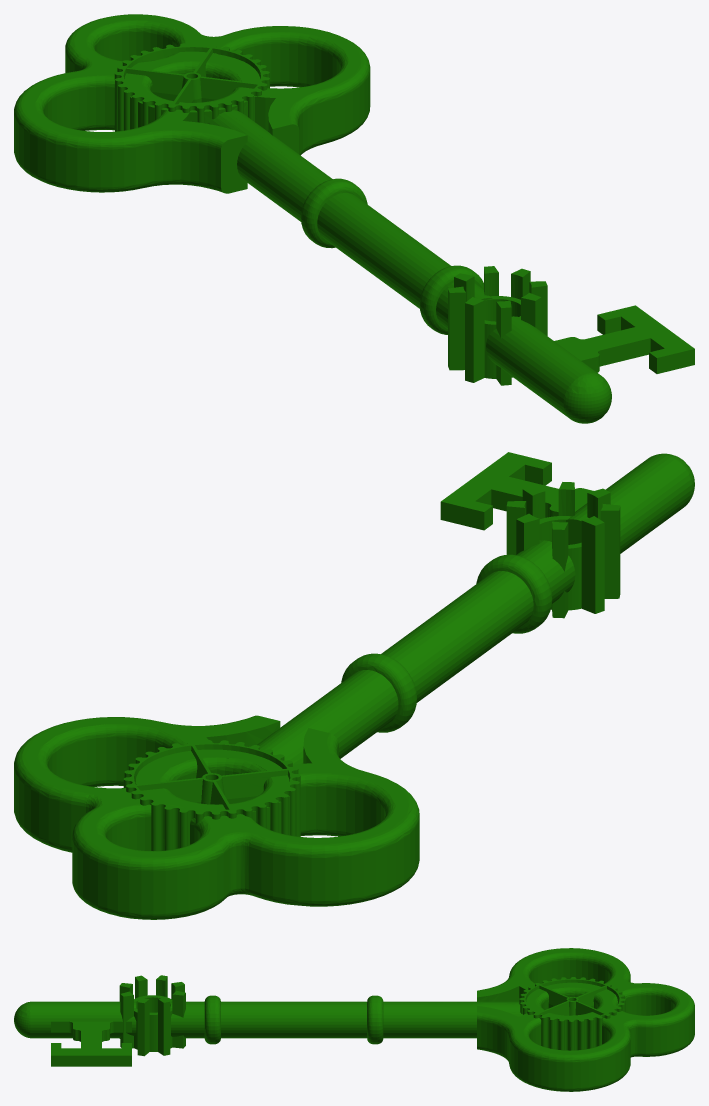
The model's file is Steampunk_Key7.stl.glb.
The picture shows the model from 3 angles, top to bottom: view 1: azimuth 30°, elevation 25°; view 2: azimuth 150°, elevation 25°; view 3: azimuth 270°, elevation 25°; orthographic projection. The views are drawn at different scales.
Parts seen in each view (by area): view 1: Steampunk_Key7; view 2: Steampunk_Key7; view 3: Steampunk_Key7.
Part boxes in pixels (<box>): Steampunk_Key7: <box>14,14,694,423</box>; Steampunk_Key7: <box>14,452,694,919</box>; Steampunk_Key7: <box>14,948,694,1091</box>.
Bounding box in the file's own units: 49.36 × 11 × 128.
